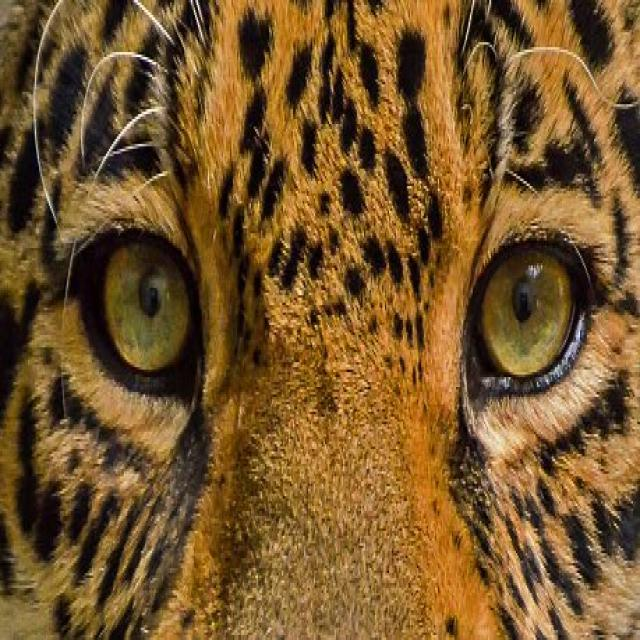Jaguar: (4, 2, 633, 632)
